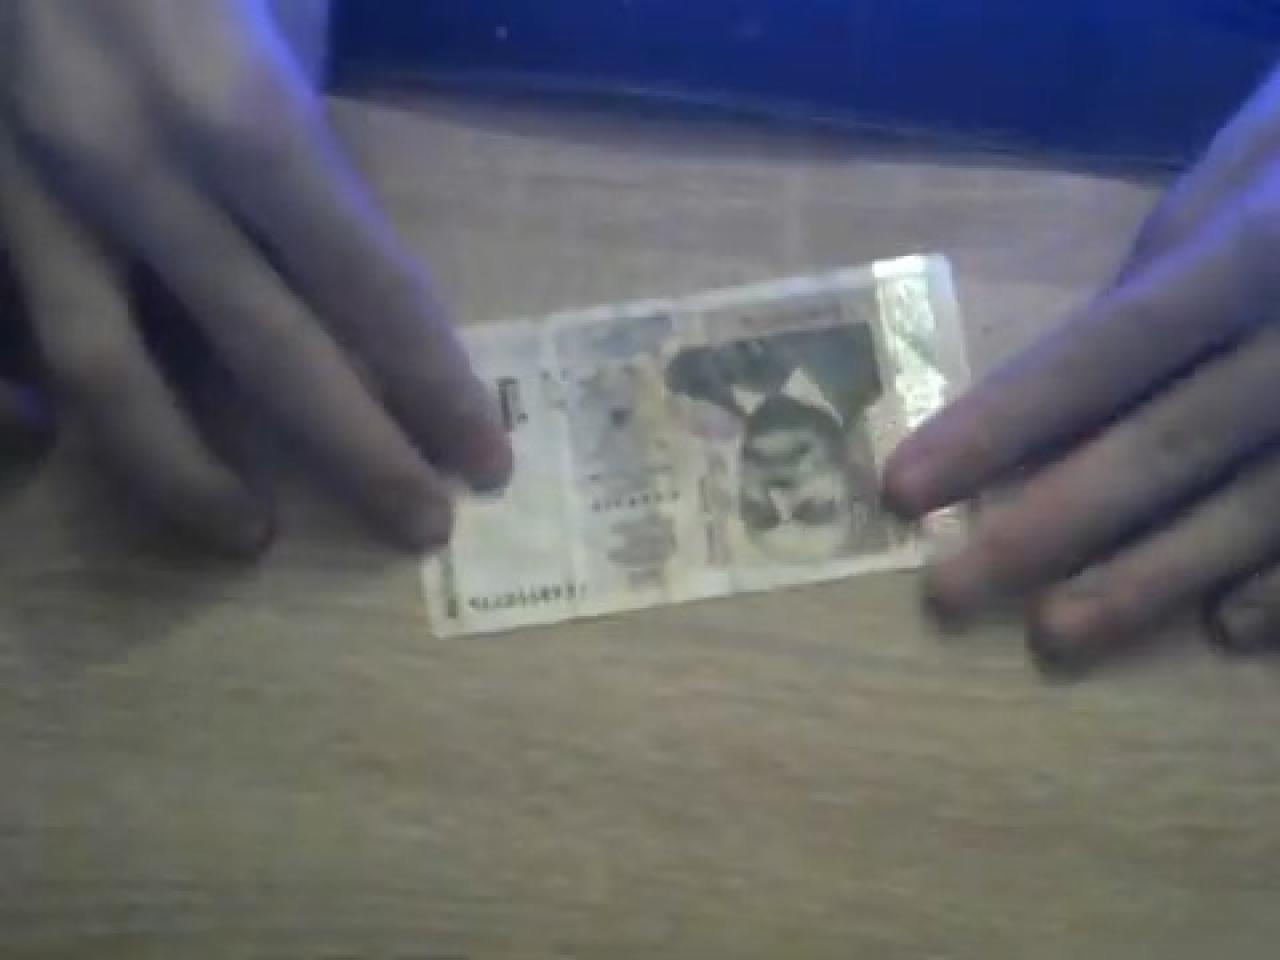10leva: (424, 256, 966, 637)
